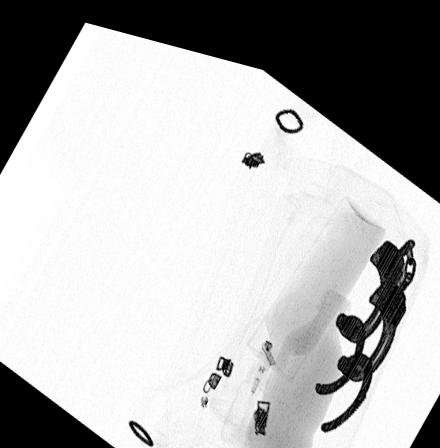HandCuffs: (312, 213, 416, 416)
